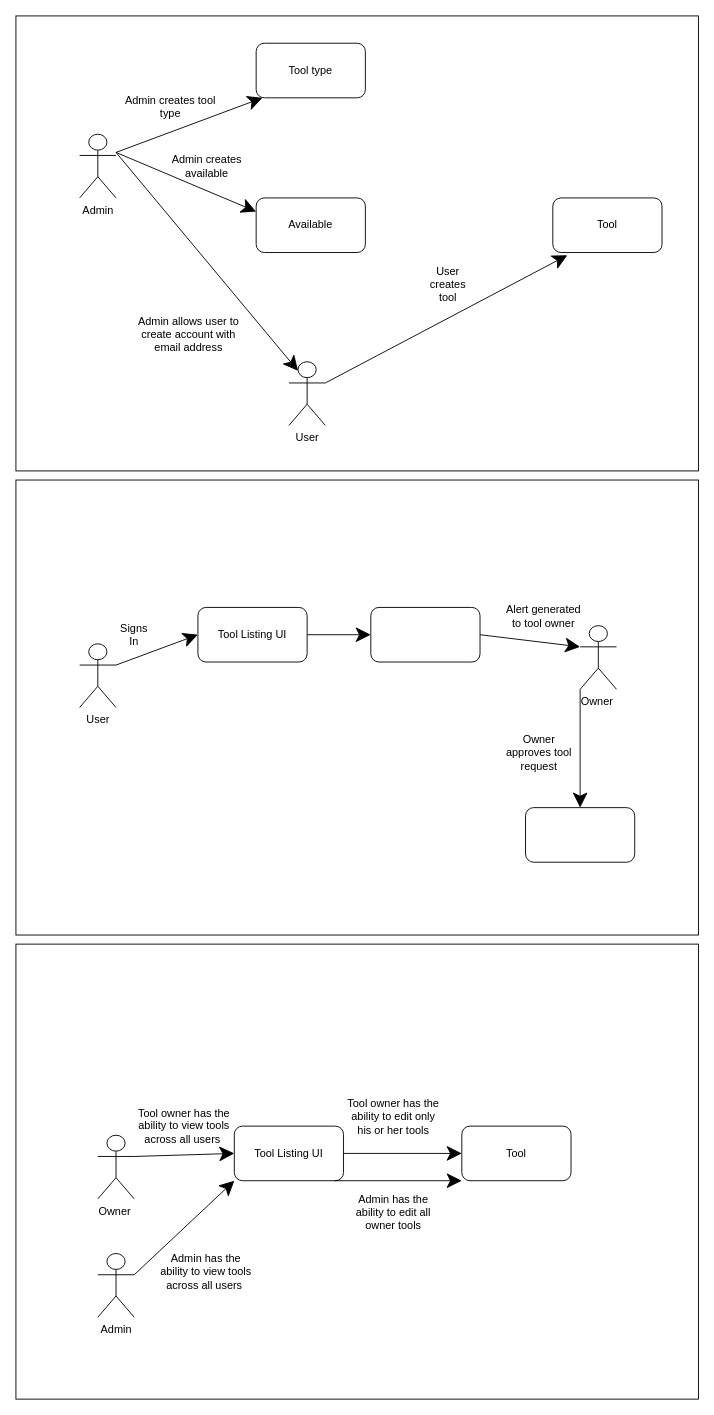
Image size: 714x1415. Some labels were removed from this diagram. Each missing label, with the box of its shape:
Tool Record Update: (525, 807, 635, 862)
Tool Requested: (370, 607, 480, 662)
